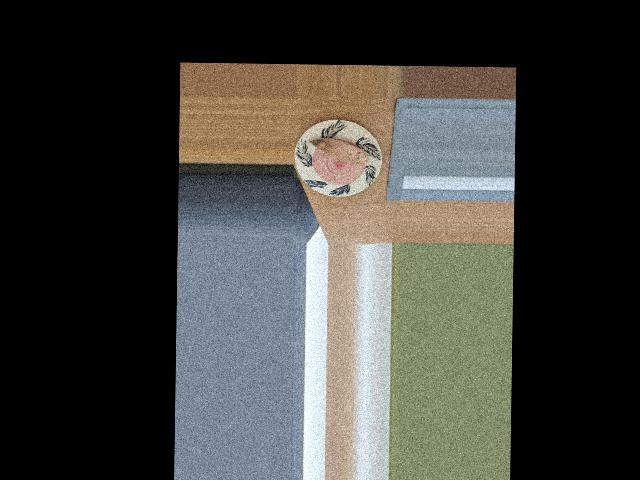sweet_potato: (313, 133, 367, 167)
